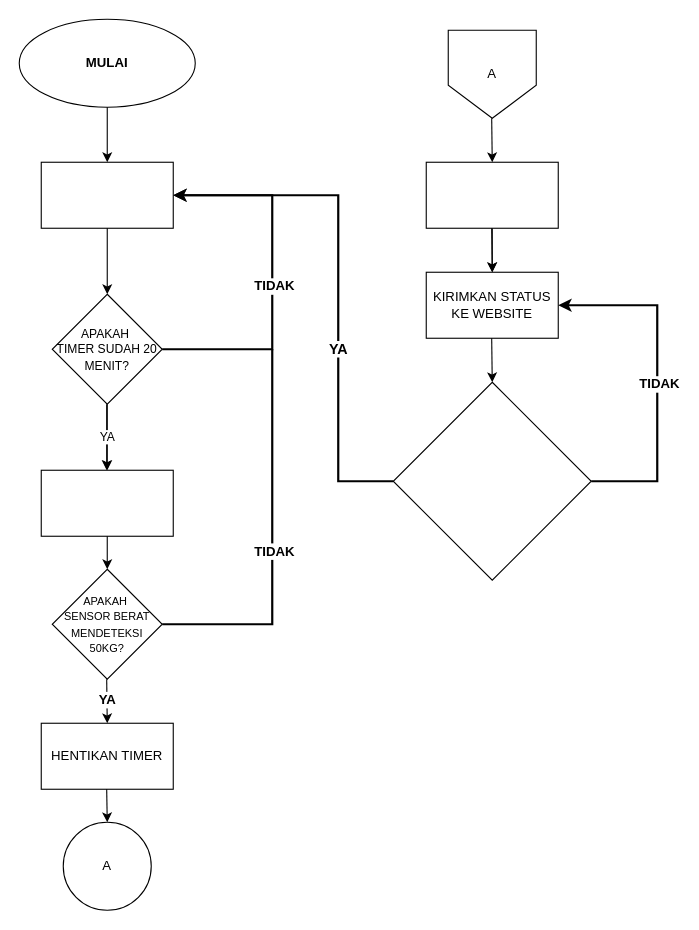
Some shapes in this 699 by 930 pixel diagram are drawn without their labels. The centre of each missing label's shape, as x and y in pixels:
"APAKAH SENOSR BERAT SUDAH MENDETEKSI KURANG DARI 3KG" goes at [491,480].
"HENTIKAN KONVEYER & RAMMING BLOCK" goes at [491,194].
"RAMMING BLOCK DAN KONVEYOR AKTIF SELAMA 3 MENIT" goes at [106,502].
"TIMER & SENSOR BERAT MENYALA" goes at [106,194].
